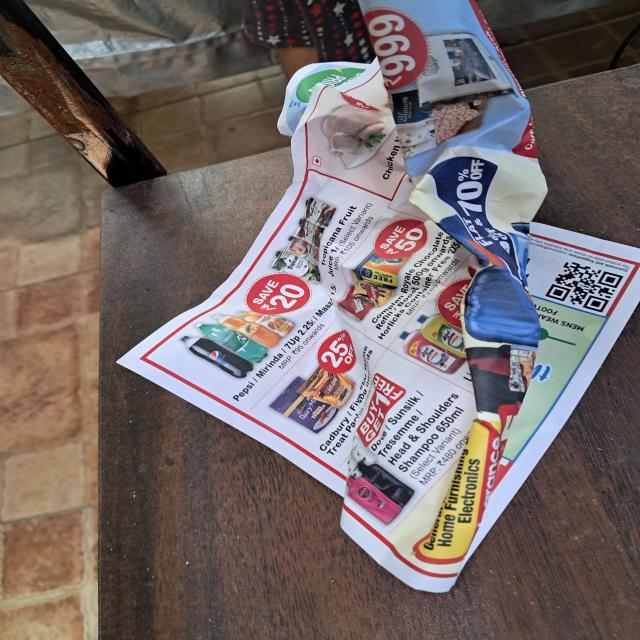Organik: (111, 57, 640, 602)
